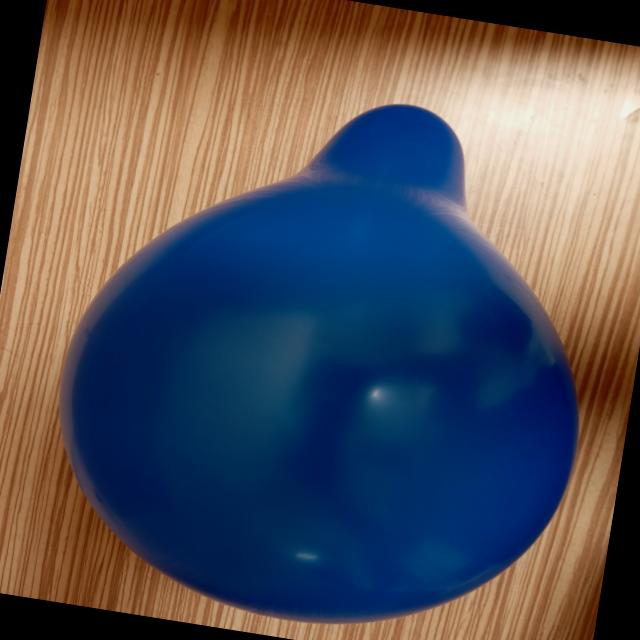balloon: (60, 105, 578, 622)
